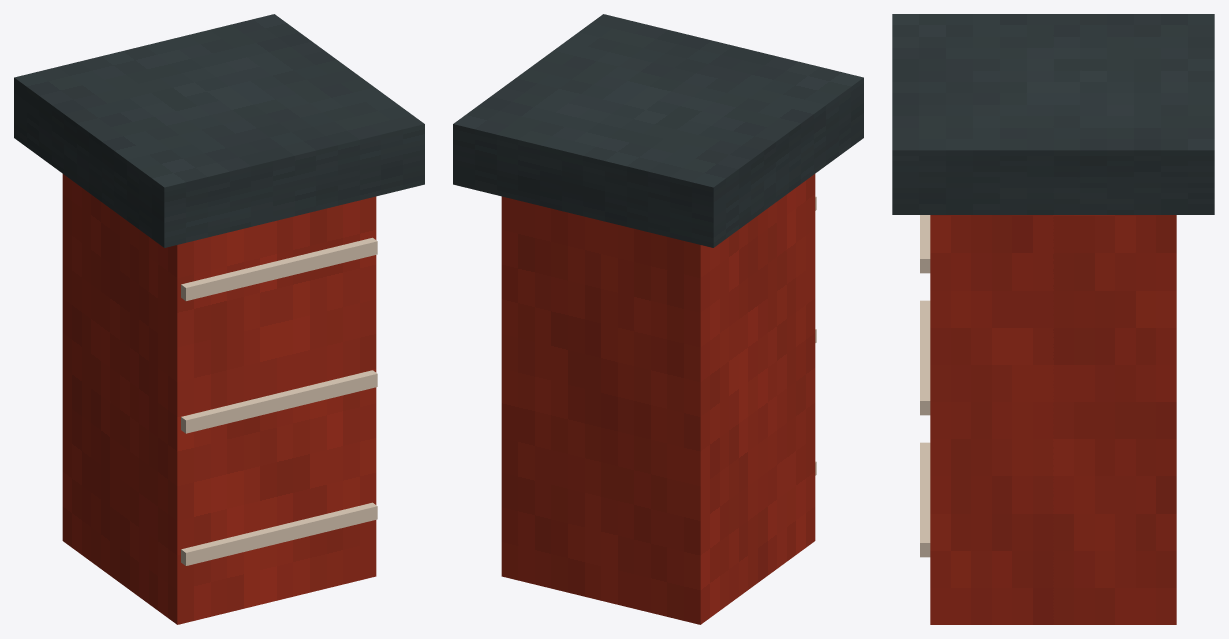
File: bp_decorchimney.glb
3 renders of one model, left to right at view 1: azimuth 30°, elevation 25°; view 2: azimuth 150°, elevation 25°; view 3: azimuth 270°, elevation 25°, orthographic. The views are drawn at different scales.
Parts seen in each view (by area): view 1: Stack, Cap, Mortar.001, Mortar.002, Mortar; view 2: Stack, Cap; view 3: Stack, Cap, Mortar, Mortar.001, Mortar.002.
Boxes of the visible parts, x1=… form: Stack: x1=62, y1=174, x2=376, y2=624; Cap: x1=14, y1=14, x2=424, y2=247; Mortar.001: x1=181, y1=370, x2=377, y2=433; Mortar.002: x1=181, y1=237, x2=377, y2=300; Mortar: x1=181, y1=502, x2=377, y2=565; Stack: x1=501, y1=174, x2=815, y2=624; Cap: x1=453, y1=14, x2=863, y2=247; Stack: x1=930, y1=215, x2=1176, y2=624; Cap: x1=892, y1=14, x2=1214, y2=214; Mortar: x1=920, y1=442, x2=930, y2=557; Mortar.001: x1=920, y1=300, x2=930, y2=415; Mortar.002: x1=920, y1=215, x2=930, y2=273.
Size of the model in its own units: 0.72 by 1.21 by 0.72.
Materials: 3 (2 with a texture image).
